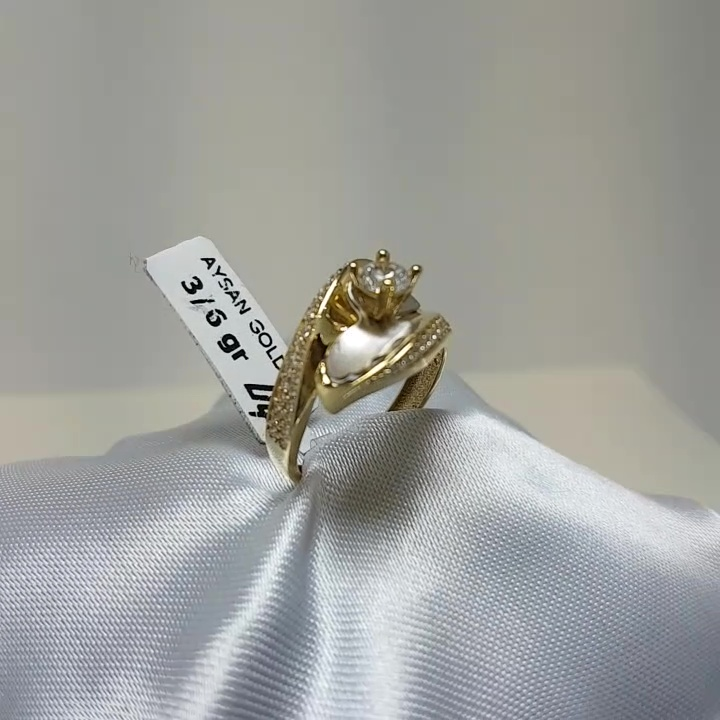Ring 6: (226, 245, 451, 485)
